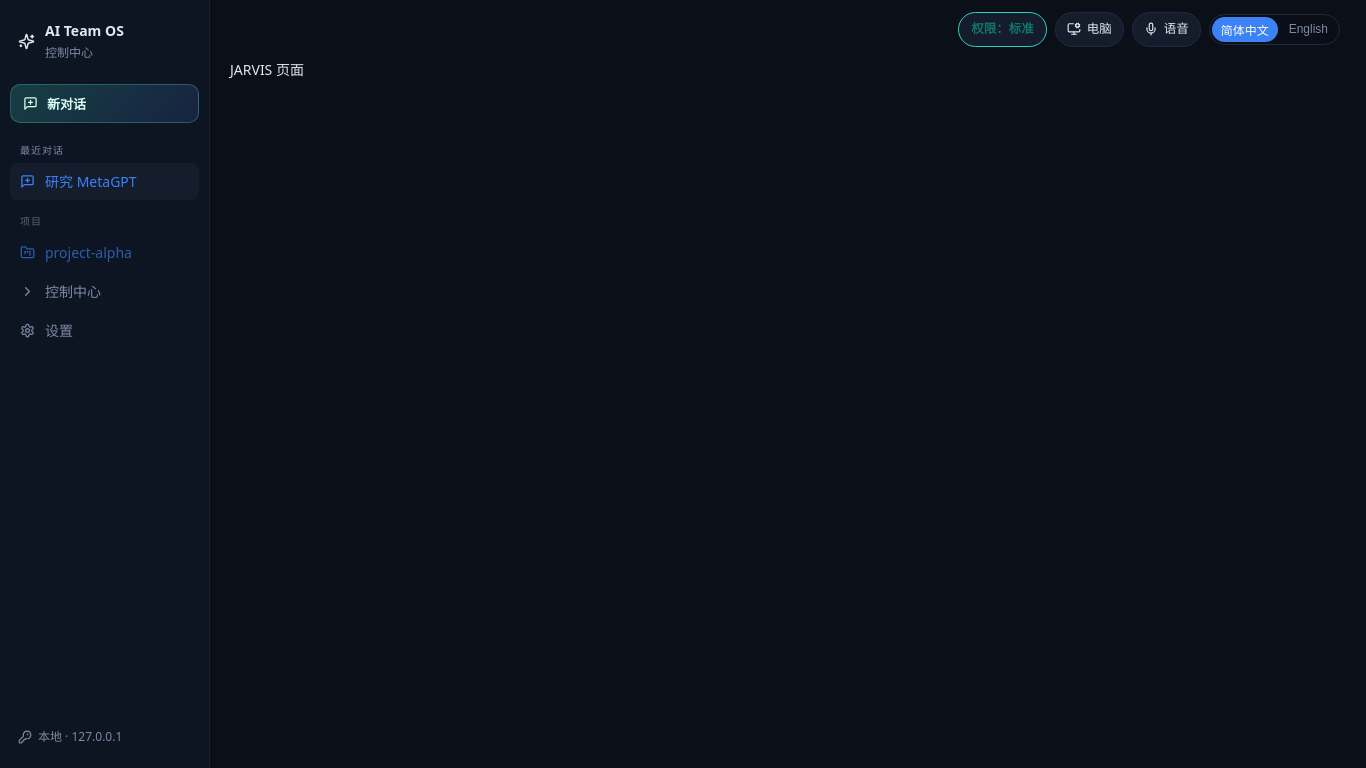
Test: NAV · 三栏信息架构 › NAV05: 控制中心入口保留原路由（/tasks 仍可达）
The width and height of the screenshot is (1366, 768).
Click the button "控制中心" at (104,292), box [10, 273, 199, 310]
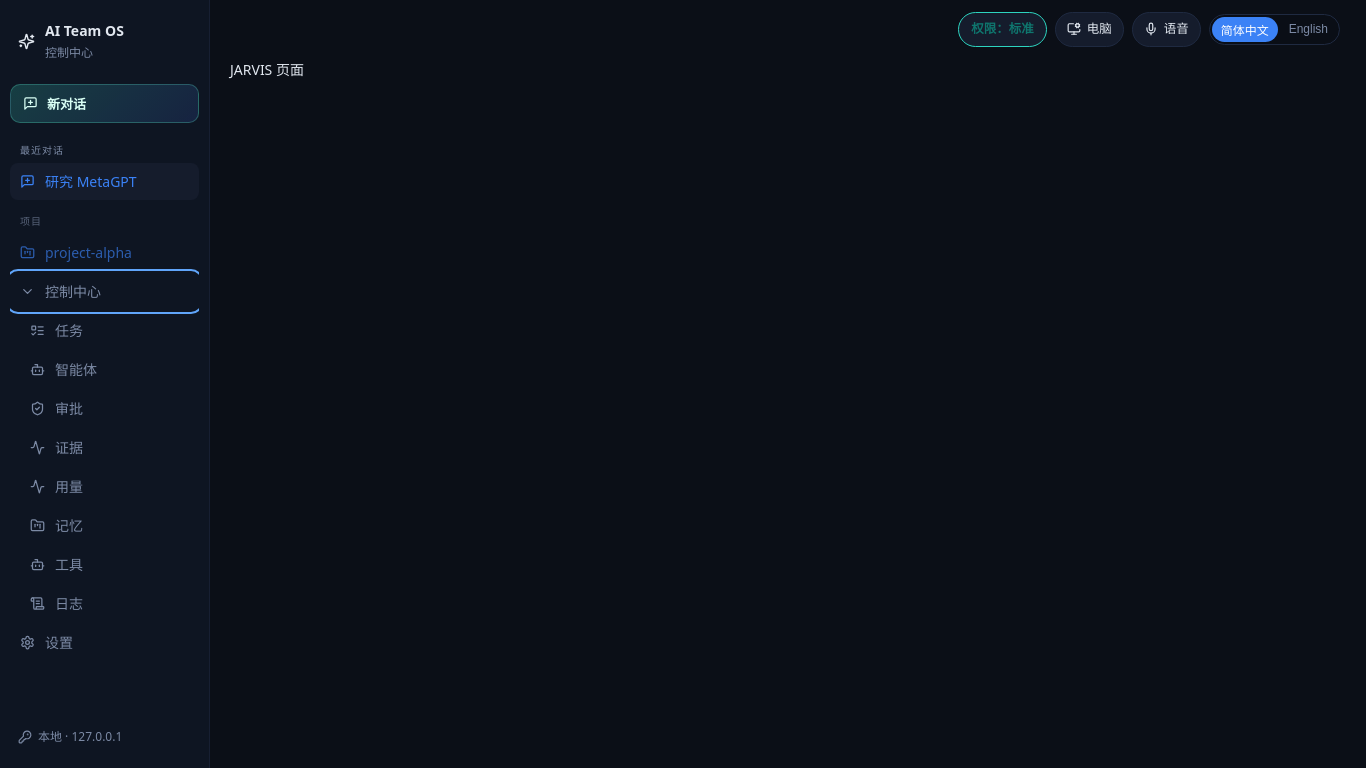
Click the link "任务" at (56,330), box [30, 321, 83, 340]
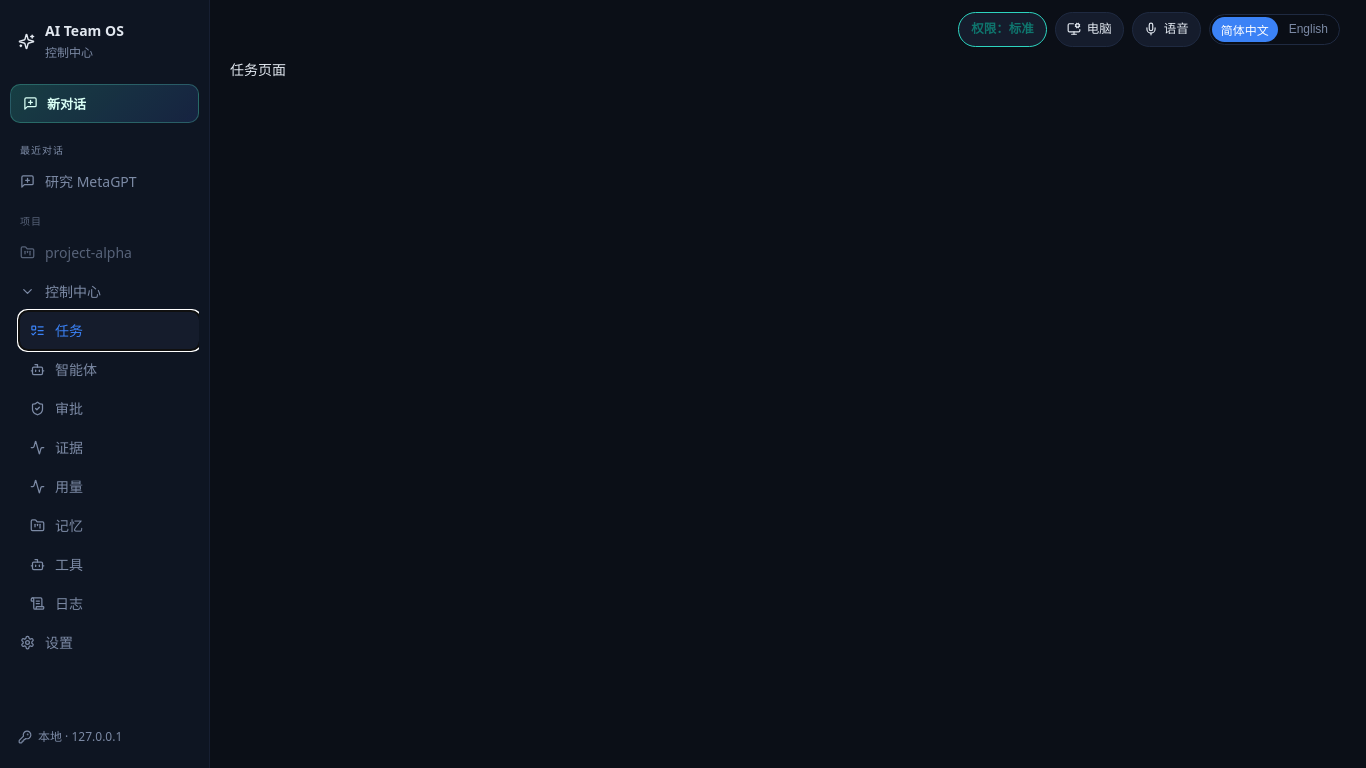
Expected: the text "任务页面" is shown, [230, 60, 286, 79]
